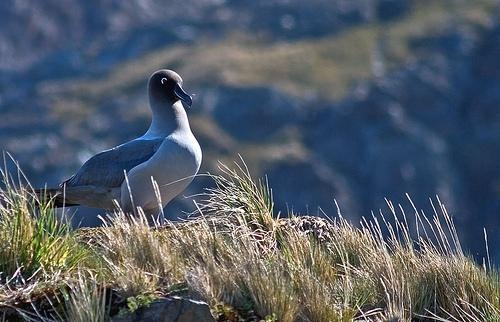bird: (57, 68, 204, 216)
